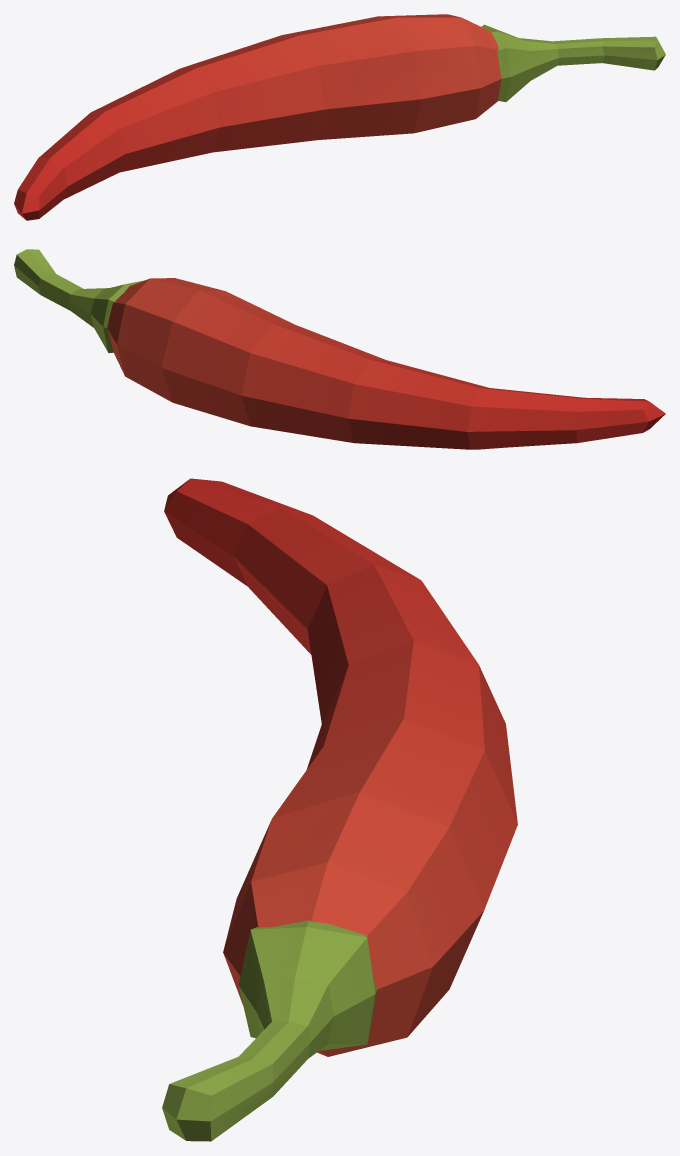
The model's file is chili_pepper_1.glb.
3 views of the same model, one above another, from view 1: azimuth 30°, elevation 25°; view 2: azimuth 150°, elevation 25°; view 3: azimuth 270°, elevation 25° (orthographic). The views are drawn at different scales.
Visible parts, largest first — view 1: chili_pepper_1; view 2: chili_pepper_1; view 3: chili_pepper_1.
Boxes of the visible parts, x1=… form: chili_pepper_1: x1=14, y1=14, x2=665, y2=220; chili_pepper_1: x1=14, y1=249, x2=665, y2=449; chili_pepper_1: x1=162, y1=478, x2=517, y2=1141.
Size of the model in its own units: 0.1819 by 0.0307 by 0.0437.
1 material, 1 textured.
